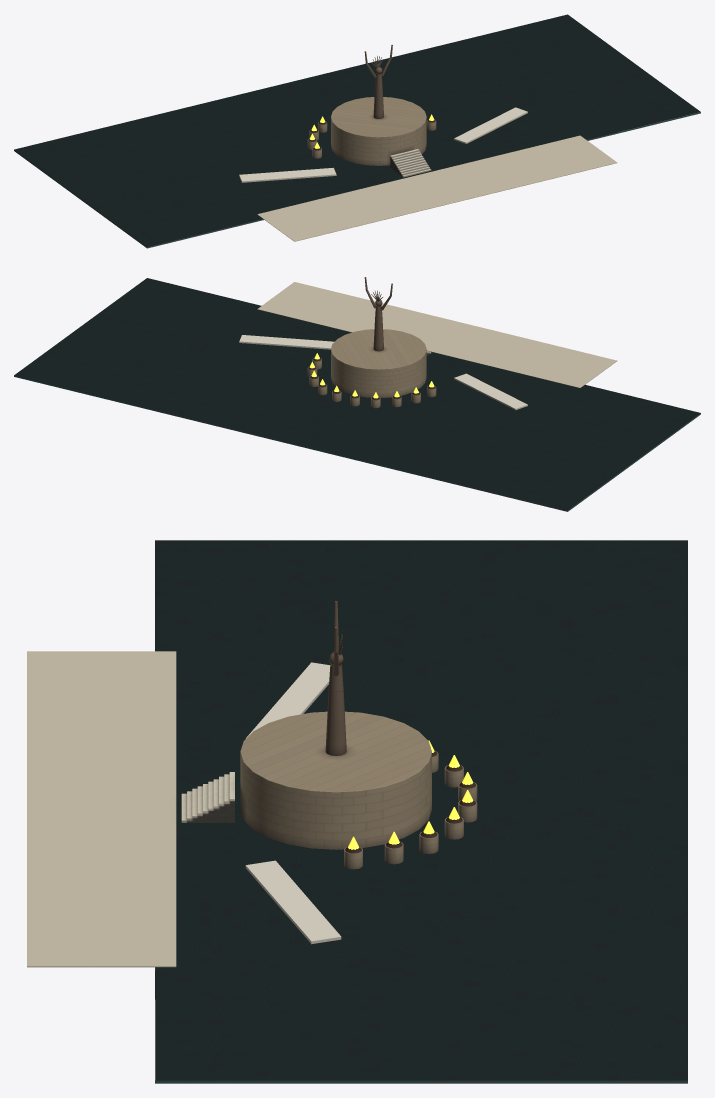
The model's file is guardian_llanuras.glb.
The picture shows the model from 3 angles, top to bottom: view 1: azimuth 30°, elevation 25°; view 2: azimuth 150°, elevation 25°; view 3: azimuth 270°, elevation 25°; orthographic projection. The views are drawn at different scales.
Visible parts, largest first — view 1: guardian_llanuras; view 2: guardian_llanuras; view 3: guardian_llanuras.
Boxes of the visible parts, x1=… form: guardian_llanuras: x1=14, y1=14, x2=700, y2=248; guardian_llanuras: x1=14, y1=277, x2=700, y2=511; guardian_llanuras: x1=27, y1=540, x2=687, y2=1083.
Bounding box in the file's own units: 120 × 20.62 × 62.
Materials: 1 (1 with a texture image).
